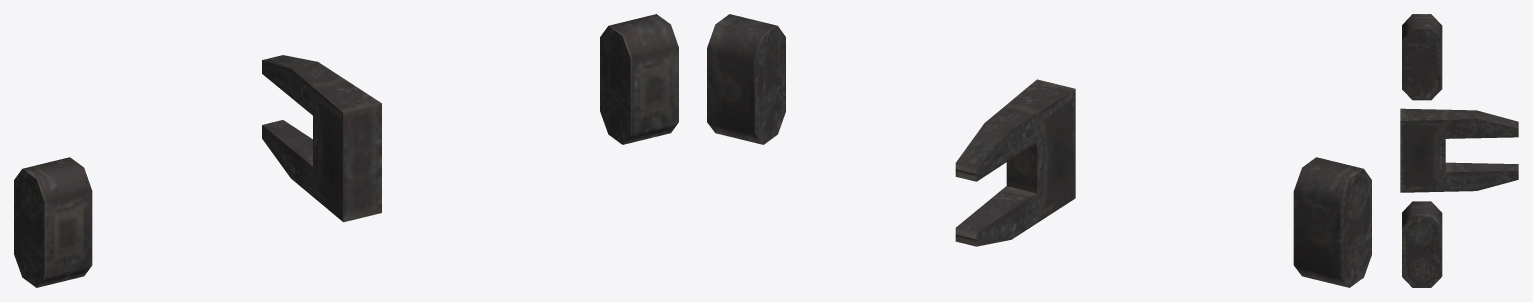
3 renders of one model, left to right at view 1: azimuth 30°, elevation 25°; view 2: azimuth 150°, elevation 25°; view 3: azimuth 270°, elevation 25°, orthographic. The views are drawn at different scales.
Visible parts, largest first — view 1: set_0_group_0; view 2: set_0_group_0; view 3: set_0_group_0.
Boxes of the visible parts, x1,y1,x2,y2 form: set_0_group_0: [14, 14, 678, 287]; set_0_group_0: [707, 14, 1371, 287]; set_0_group_0: [1400, 14, 1518, 287].
Bounding box in the file's own units: 0.5766 × 0.0955 × 0.1419.
Materials: 1 (1 with a texture image).
